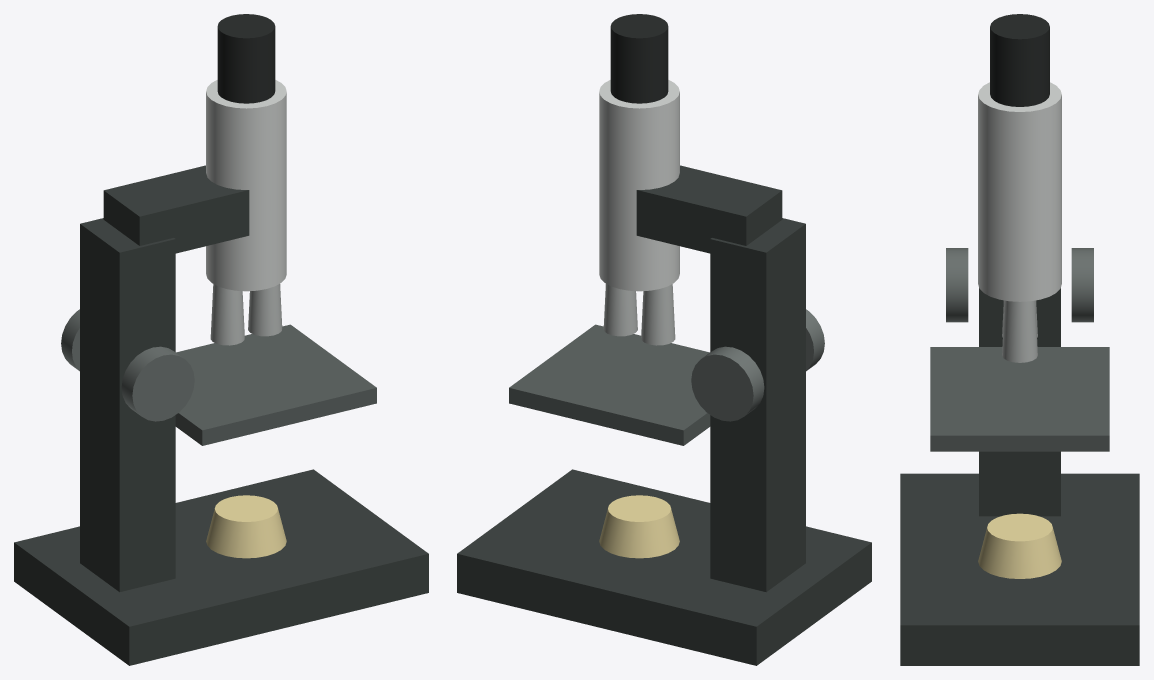
The model's file is kinh-hien-vi.v1.glb.
The picture shows the model from 3 angles, left to right: view 1: azimuth 30°, elevation 25°; view 2: azimuth 150°, elevation 25°; view 3: azimuth 270°, elevation 25°; orthographic projection. The views are drawn at different scales.
Parts seen in each view (by area): view 1: chan_kinh, than_duoi, ban_kinh, ong_kinh, than_tren, thi_kinh, oc_dieu_chinh_trai, den, vat_kinh_1, vat_kinh_2, oc_dieu_chinh_phai; view 2: chan_kinh, than_duoi, ban_kinh, ong_kinh, than_tren, thi_kinh, oc_dieu_chinh_phai, den, vat_kinh_1, vat_kinh_2, oc_dieu_chinh_trai; view 3: chan_kinh, ban_kinh, ong_kinh, than_duoi, thi_kinh, den, vat_kinh_2, oc_dieu_chinh_trai, oc_dieu_chinh_phai.
Boxes of the visible parts, bbox=[...] form: chan_kinh: bbox=[14, 469, 428, 665]; than_duoi: bbox=[80, 218, 175, 592]; ban_kinh: bbox=[175, 324, 376, 445]; ong_kinh: bbox=[206, 80, 286, 291]; than_tren: bbox=[103, 165, 249, 253]; thi_kinh: bbox=[217, 14, 275, 103]; oc_dieu_chinh_trai: bbox=[121, 346, 194, 421]; den: bbox=[206, 495, 286, 558]; vat_kinh_1: bbox=[210, 284, 244, 345]; vat_kinh_2: bbox=[248, 284, 282, 336]; oc_dieu_chinh_phai: bbox=[61, 309, 79, 371]; chan_kinh: bbox=[457, 469, 871, 665]; than_duoi: bbox=[710, 218, 805, 592]; ban_kinh: bbox=[509, 324, 710, 445]; ong_kinh: bbox=[599, 80, 679, 291]; than_tren: bbox=[636, 165, 782, 253]; thi_kinh: bbox=[610, 14, 668, 103]; oc_dieu_chinh_phai: bbox=[691, 346, 764, 421]; den: bbox=[599, 495, 679, 558]; vat_kinh_1: bbox=[641, 284, 675, 345]; vat_kinh_2: bbox=[603, 284, 637, 336]; oc_dieu_chinh_trai: bbox=[806, 309, 824, 371]; chan_kinh: bbox=[900, 473, 1139, 665]; ban_kinh: bbox=[930, 347, 1109, 451]; ong_kinh: bbox=[978, 82, 1061, 301]; than_duoi: bbox=[979, 288, 1060, 516]; thi_kinh: bbox=[990, 14, 1049, 106]; den: bbox=[978, 513, 1061, 578]; vat_kinh_2: bbox=[1002, 300, 1037, 362]; oc_dieu_chinh_trai: bbox=[946, 248, 968, 322]; oc_dieu_chinh_phai: bbox=[1071, 248, 1093, 322].
Bounding box in the file's own units: 2.4 × 4.25 × 1.6.
